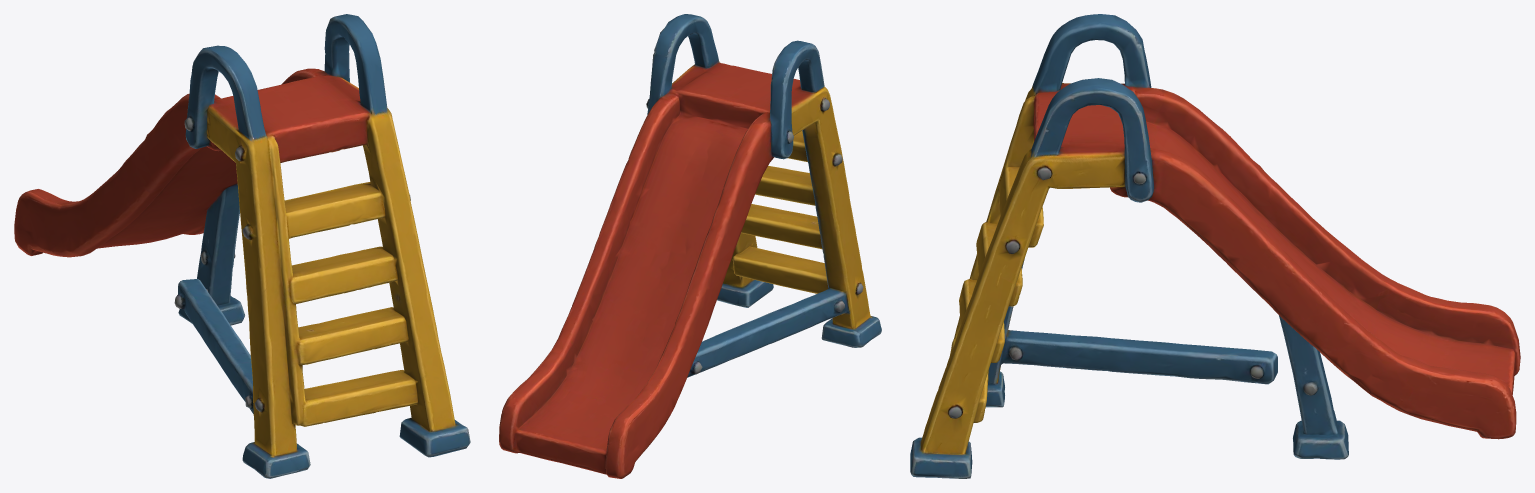
File: tobogan.glb
3 views of the same model, side by side, from view 1: azimuth 30°, elevation 25°; view 2: azimuth 150°, elevation 25°; view 3: azimuth 270°, elevation 25° (orthographic). The views are drawn at different scales.
Visible parts, largest first — view 1: tripo_node_1c77d6df-76a4-41ed-a35d-6978057c99f5; view 2: tripo_node_1c77d6df-76a4-41ed-a35d-6978057c99f5; view 3: tripo_node_1c77d6df-76a4-41ed-a35d-6978057c99f5.
Boxes of the visible parts, <box> form: tripo_node_1c77d6df-76a4-41ed-a35d-6978057c99f5: <box>14,14,470,478</box>; tripo_node_1c77d6df-76a4-41ed-a35d-6978057c99f5: <box>499,14,881,478</box>; tripo_node_1c77d6df-76a4-41ed-a35d-6978057c99f5: <box>910,14,1520,478</box>.
Bounding box in the file's own units: 0.3654 × 0.6913 × 1.
1 material, 1 textured.
